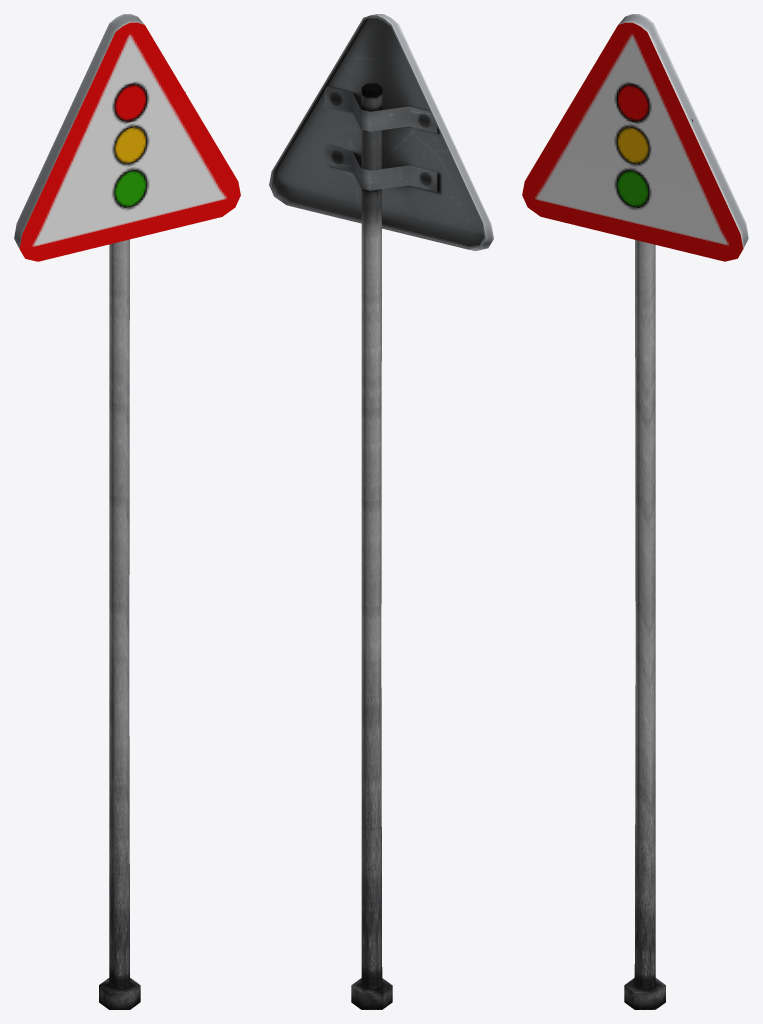
The model's file is ROD0310086.FBX.
3 views of the same model, side by side, from view 1: azimuth 30°, elevation 25°; view 2: azimuth 150°, elevation 25°; view 3: azimuth 330°, elevation 25° (orthographic).
Visible parts, largest first — view 1: smROD0310086; view 2: smROD0310086; view 3: smROD0310086.
Boxes of the visible parts, x1=… form: smROD0310086: x1=14, y1=14, x2=240, y2=1009; smROD0310086: x1=269, y1=14, x2=493, y2=1009; smROD0310086: x1=522, y1=14, x2=748, y2=1009.
Size of the model in its own units: 0.7052 by 3.02 by 0.1216.
Materials: 1 (1 with a texture image).
